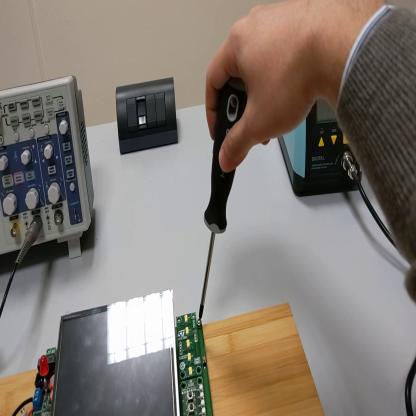hand: (205, 1, 328, 177)
low voltage board: (14, 290, 214, 415)
oscilloscope: (2, 75, 96, 260)
screwdriver-: (198, 80, 248, 321)
welder station: (280, 89, 362, 197)
working area: (1, 304, 324, 416)
